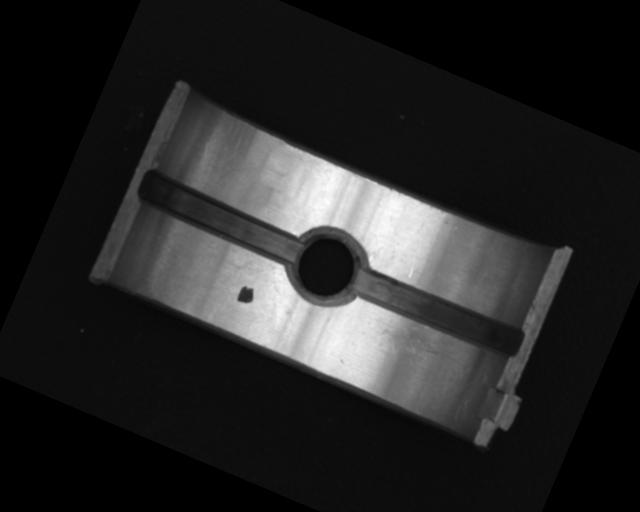blot: (235, 283, 257, 307)
gap: (345, 260, 528, 364), (132, 169, 304, 268)
hole: (277, 218, 373, 315)
nick: (399, 221, 433, 279)
scratch: (369, 309, 476, 384)
